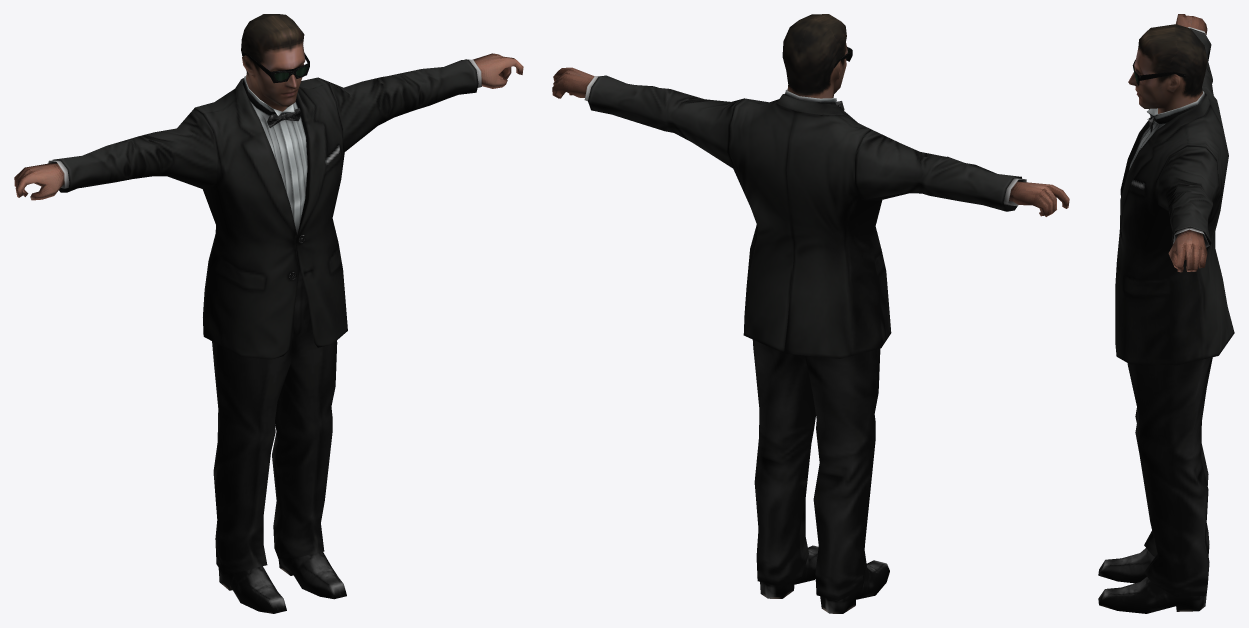
Rendered from MaleTuxedo.obj.
3 renders of one model, left to right at view 1: azimuth 30°, elevation 25°; view 2: azimuth 150°, elevation 25°; view 3: azimuth 270°, elevation 25°, orthographic.
Visible parts, largest first — view 1: Legs_Mesh_0023.rip, SuitFront1_Mesh_0054.rip, Arms_Mesh_0015.rip, SuitFront2_Mesh_0052.rip, Face_Mesh_0057.rip, Shoes_Mesh_0008.rip, Hands_Mesh_0014.rip, SuitBack1_Mesh_0030.rip; view 2: Legs_Mesh_0023.rip, SuitBack1_Mesh_0030.rip, Arms_Mesh_0015.rip, SuitBack2_Mesh_0036.rip, Face_Mesh_0057.rip, Hands_Mesh_0014.rip, Shoes_Mesh_0008.rip, SuitFront1_Mesh_0054.rip; view 3: Legs_Mesh_0023.rip, SuitFront2_Mesh_0052.rip, SuitBack2_Mesh_0036.rip, Face_Mesh_0057.rip, Arms_Mesh_0015.rip, Shoes_Mesh_0008.rip, Hands_Mesh_0014.rip, SuitFront1_Mesh_0054.rip, SuitBack1_Mesh_0030.rip, Glasses_Mesh_0058.rip.
Boxes of the visible parts, x1,y1,x2,y2 form: Legs_Mesh_0023.rip: (212,271,337,574); SuitFront1_Mesh_0054.rip: (202,96,299,359); Arms_Mesh_0015.rip: (48,59,481,192); SuitFront2_Mesh_0052.rip: (279,83,347,347); Face_Mesh_0057.rip: (241,14,305,111); Shoes_Mesh_0008.rip: (218,552,346,613); Hands_Mesh_0014.rip: (14,53,523,200); SuitBack1_Mesh_0030.rip: (195,76,282,334); Legs_Mesh_0023.rip: (752,340,880,600); SuitBack1_Mesh_0030.rip: (784,96,881,358); Arms_Mesh_0015.rip: (584,75,1026,211); SuitBack2_Mesh_0036.rip: (728,89,799,353); Face_Mesh_0057.rip: (782,14,847,98); Hands_Mesh_0014.rip: (552,67,1069,216); Shoes_Mesh_0008.rip: (760,545,889,613); SuitFront1_Mesh_0054.rip: (836,105,891,347); Legs_Mesh_0023.rip: (1127,357,1212,596); SuitFront2_Mesh_0052.rip: (1115,115,1187,365); SuitBack2_Mesh_0036.rip: (1147,92,1234,364); Face_Mesh_0057.rip: (1128,24,1207,113); Arms_Mesh_0015.rip: (1158,27,1218,250); Shoes_Mesh_0008.rip: (1098,548,1206,613); Hands_Mesh_0014.rip: (1168,14,1207,272); SuitFront1_Mesh_0054.rip: (1120,118,1154,196); SuitBack1_Mesh_0030.rip: (1147,86,1222,126); Glasses_Mesh_0058.rip: (1132,59,1185,85).
Size of the model in its own units: 1.6 by 1.71 by 0.3745.
54 materials, 54 textured.
